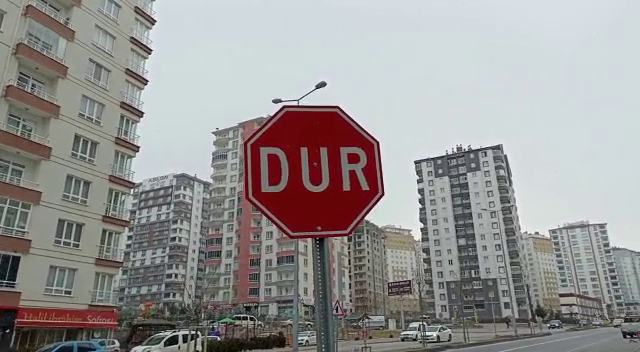stop: (240, 102, 387, 241)
